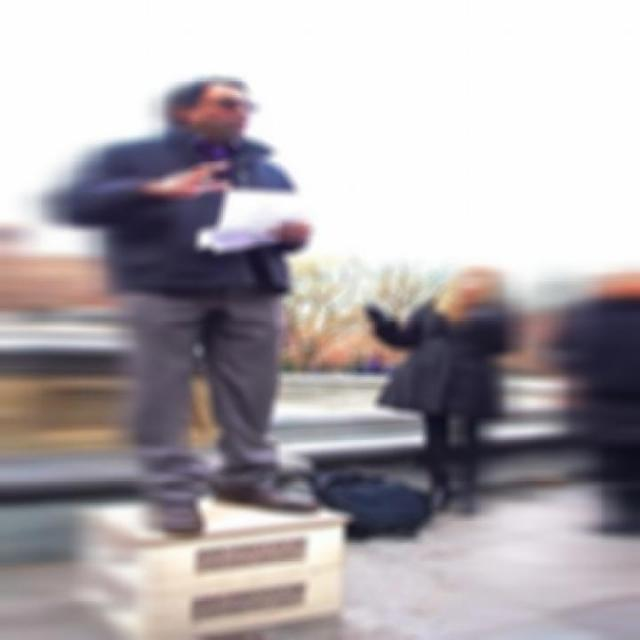box: (85, 490, 344, 640)
